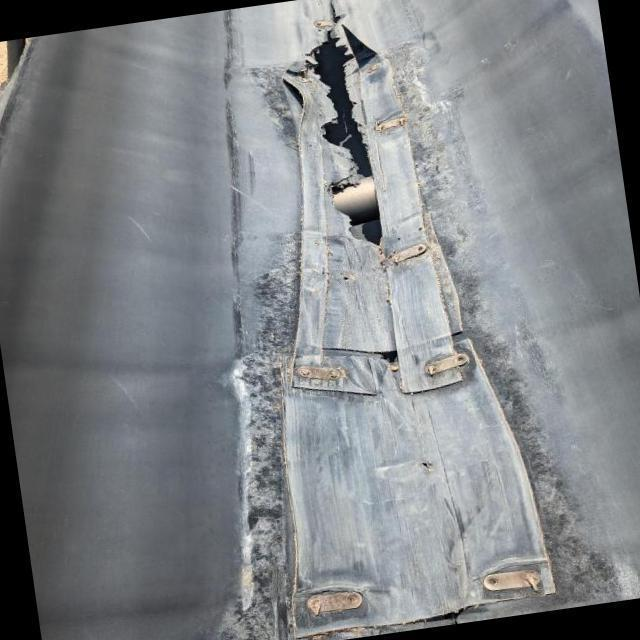Hole: (276, 0, 392, 258)
